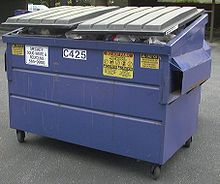Dumpster: (1, 4, 215, 182)
